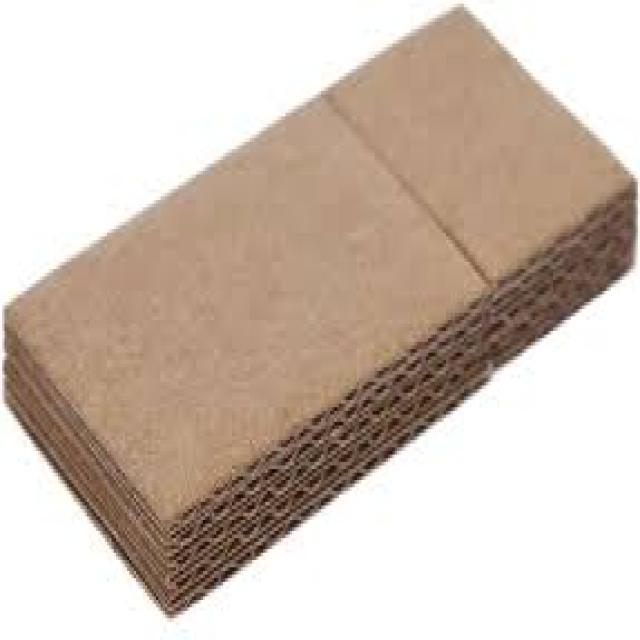Cardboard: (1, 2, 639, 620)
